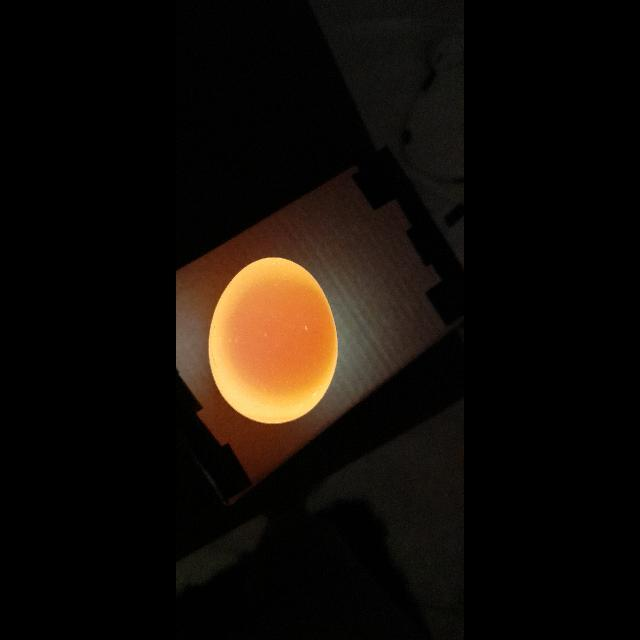A - Good: (210, 249, 342, 426)
